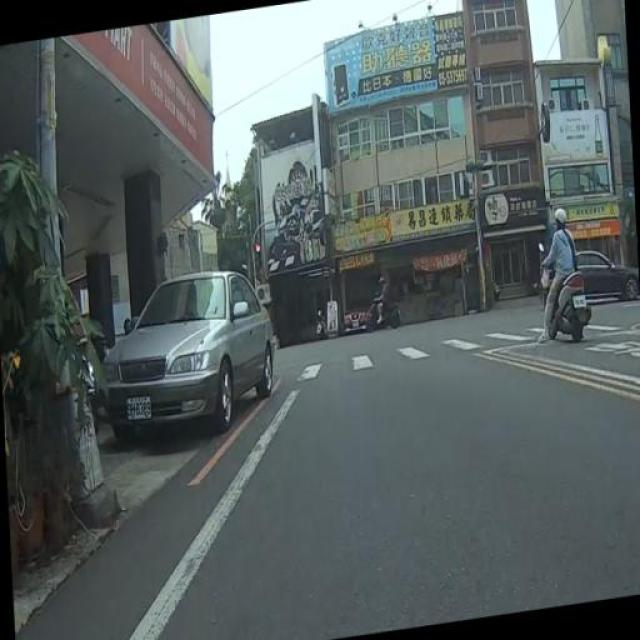illegalparking: (66, 264, 287, 480)
